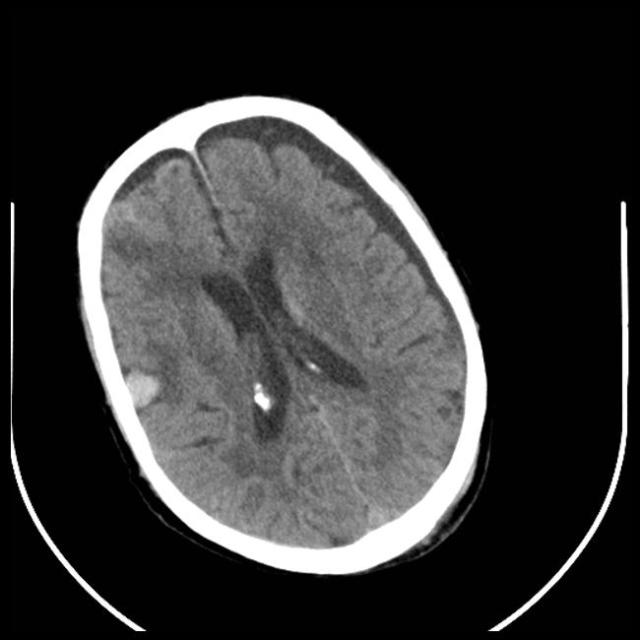lesion: (116, 332, 184, 452)
